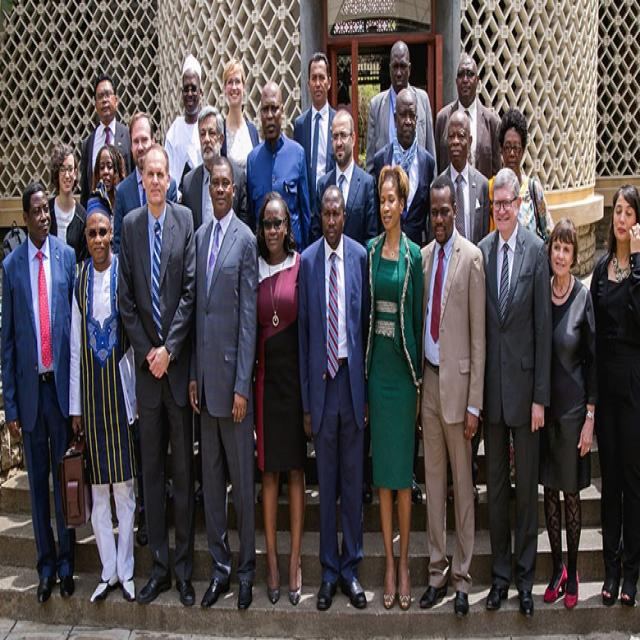body: (115, 138, 198, 610), (185, 153, 261, 615), (475, 166, 552, 618), (0, 175, 79, 605), (296, 181, 374, 615), (66, 176, 140, 606), (418, 174, 487, 618), (111, 109, 180, 544), (362, 162, 426, 611), (373, 88, 436, 508), (542, 216, 598, 612), (588, 184, 639, 608), (256, 189, 304, 608), (244, 79, 314, 265), (364, 36, 439, 184), (308, 108, 378, 248), (433, 53, 505, 182), (180, 104, 248, 238), (428, 106, 492, 248), (80, 73, 136, 214), (293, 49, 340, 216), (499, 106, 553, 251), (164, 51, 204, 208), (219, 57, 261, 184), (46, 138, 88, 264), (91, 142, 126, 255)
